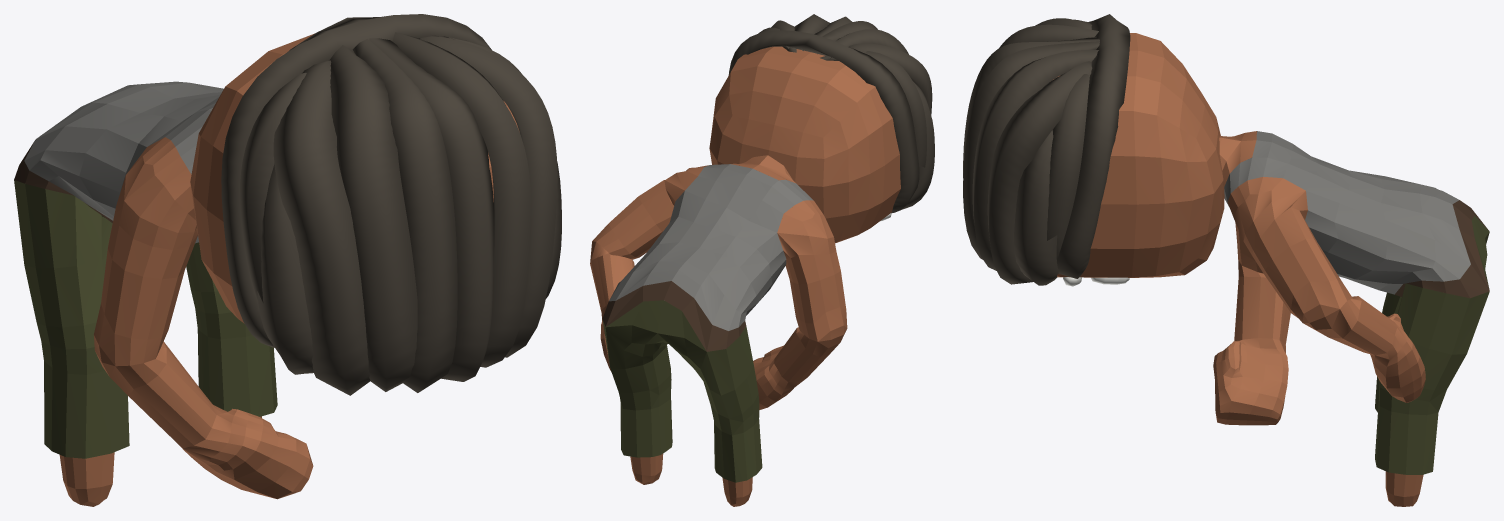
The model's file is ramasse-homme.glb.
3 renders of one model, left to right at view 1: azimuth 30°, elevation 25°; view 2: azimuth 150°, elevation 25°; view 3: azimuth 270°, elevation 25°, orthographic. The views are drawn at different scales.
Parts seen in each view (by area): view 1: Cube004_5, Cube004, Cube004_2, Cube004_1, Cube004_3; view 2: Cube004, Cube004_1, Cube004_2, Cube004_5, Cube004_3; view 3: Cube004, Cube004_5, Cube004_1, Cube004_2, Cube004_3.
Part boxes in pixels (x1,y1,x2,y2): Cube004_5: [221, 14, 561, 395]; Cube004: [59, 33, 519, 506]; Cube004_2: [14, 180, 277, 458]; Cube004_1: [24, 81, 223, 243]; Cube004_3: [14, 141, 112, 222]; Cube004: [590, 46, 900, 506]; Cube004_1: [609, 164, 813, 330]; Cube004_2: [602, 300, 762, 482]; Cube004_5: [728, 14, 934, 213]; Cube004_3: [602, 281, 746, 351]; Cube004: [1053, 33, 1425, 506]; Cube004_5: [963, 14, 1130, 285]; Cube004_1: [1224, 131, 1470, 294]; Cube004_2: [1375, 215, 1489, 474]; Cube004_3: [1395, 200, 1489, 298].
Size of the model in its own units: 0.712 by 1.14 by 1.22.
